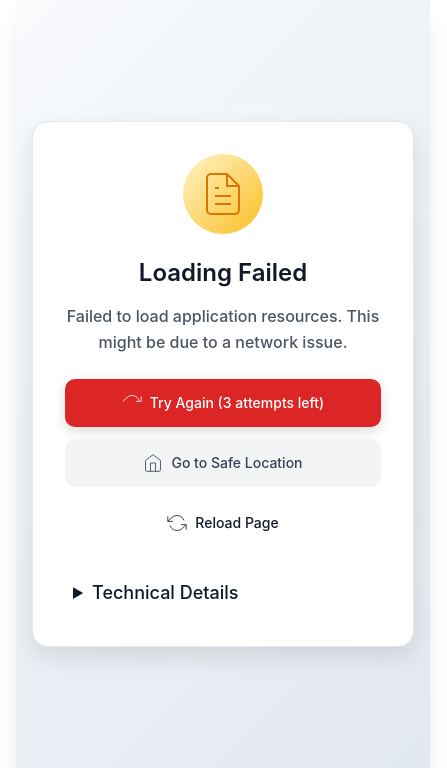
Test: LoadingErrorBoundary › Technical Details › provides expandable technical details
Click the heading "Technical Details" at (165, 593), box [92,582,238,603]
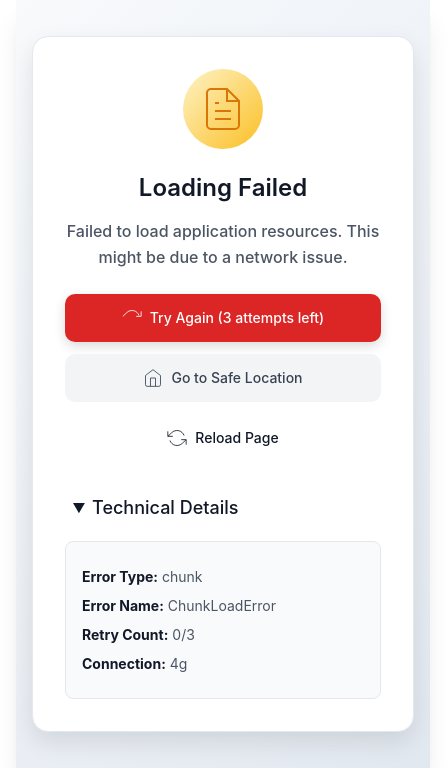
Now the text "Error Type:" is shown, box [82,568,158,585]
Now the text "Error Name:" is shown, box [82,597,164,614]
Now the text "Retry Count:" is shown, box [82,626,168,643]
